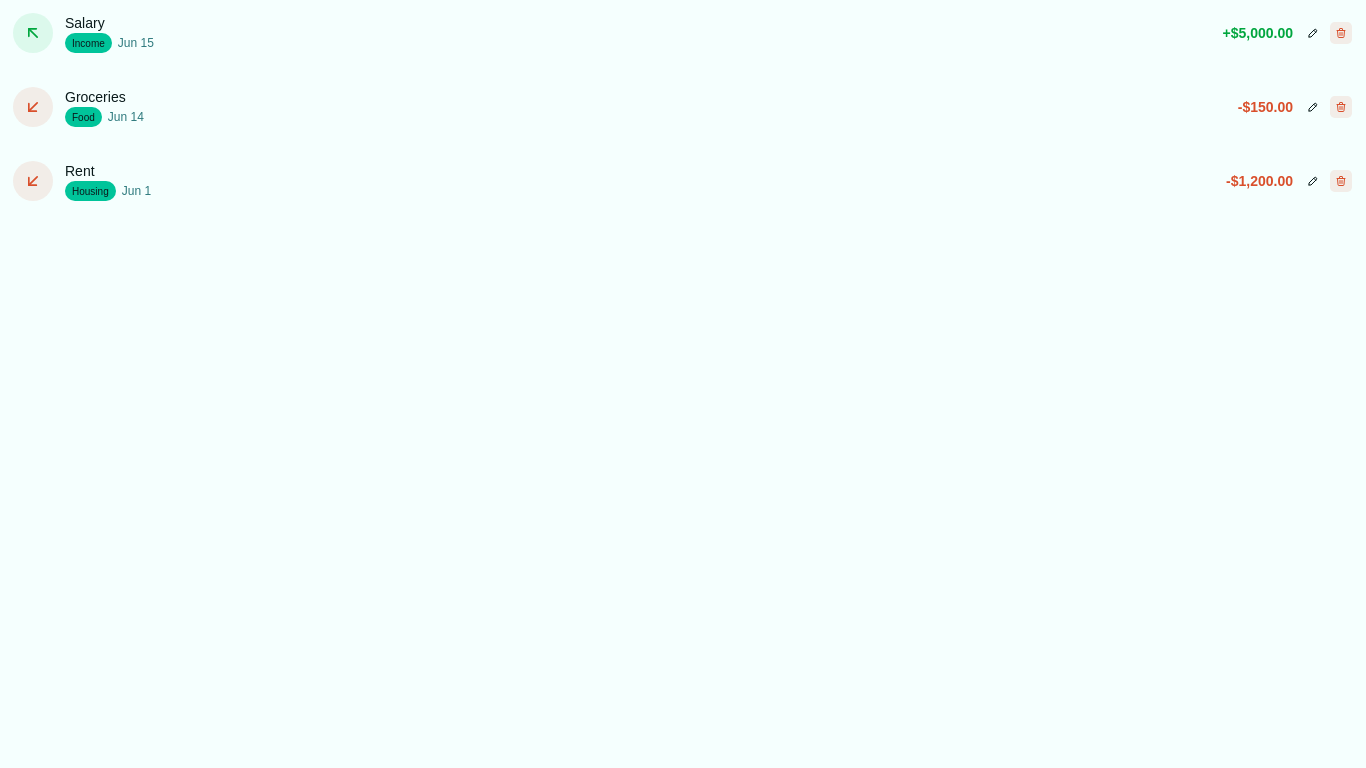
Test: TransactionList › opens a confirmation dialog before deleting a transaction
The width and height of the screenshot is (1366, 768).
Click the button named "Delete Groceries" at {"x": 1341, "y": 107}, box [1329,95,1353,119]
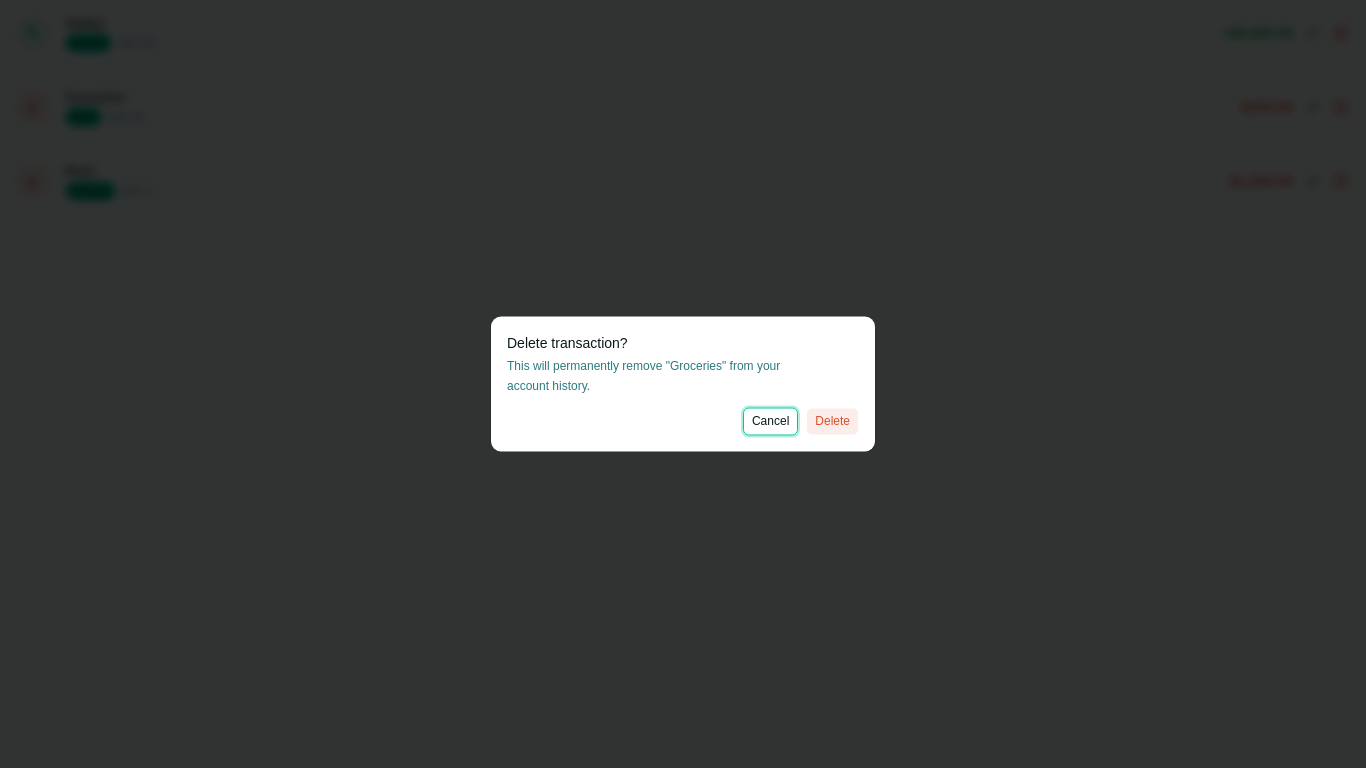
Result: the dialog "Delete transaction" is shown at [491,316,875,452]
Result: the text "permanently remove \"Groceries\"" is shown at [507,358,780,392]
Result: the button "Cancel" is shown at [743,408,798,436]
